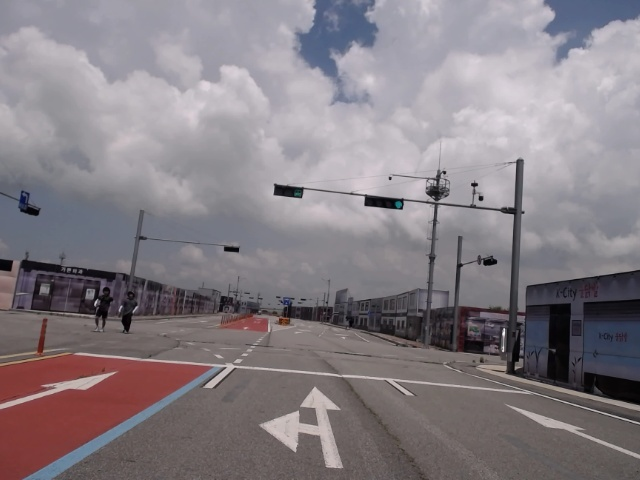straight_green_4: (365, 195, 406, 211)
